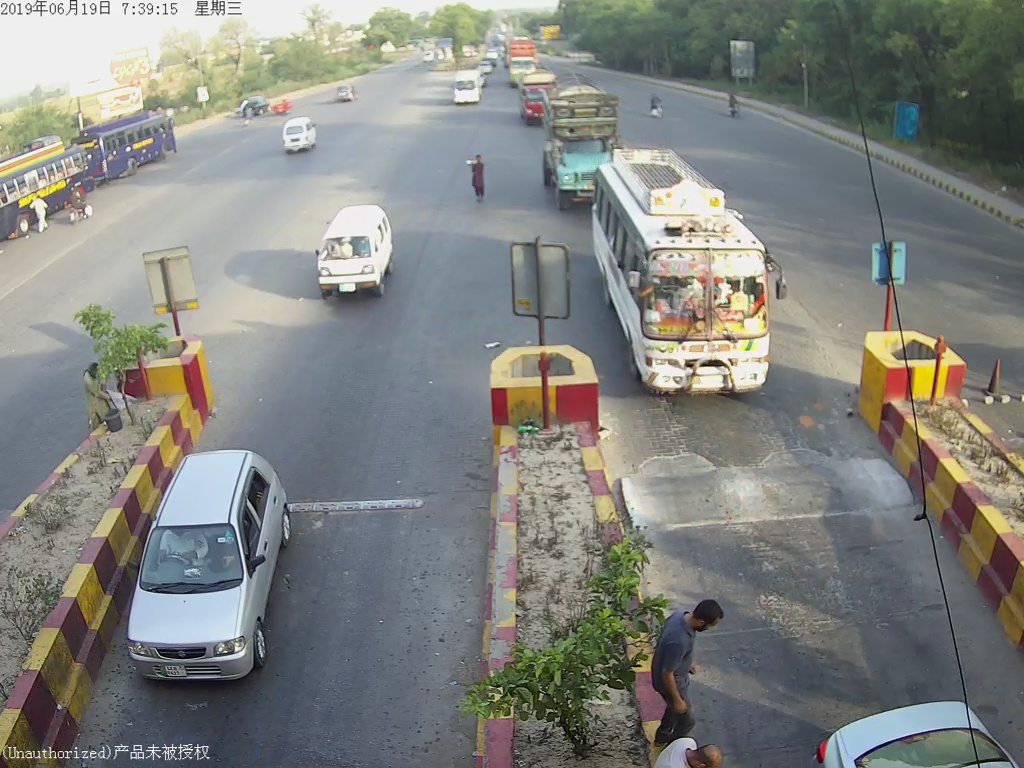Cat-1: (121, 448, 300, 684), (312, 198, 398, 302)
Cat-3: (593, 146, 789, 394)
Cat-4: (543, 79, 621, 204)
